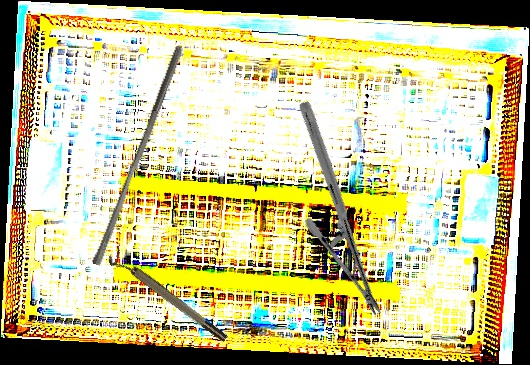Fixation Ring: (105, 245, 230, 350)
Needle Holder: (228, 99, 453, 318)
Pusher: (91, 42, 184, 269)
